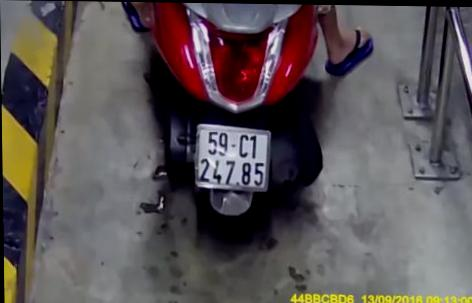License_Plate: (183, 120, 278, 201)
